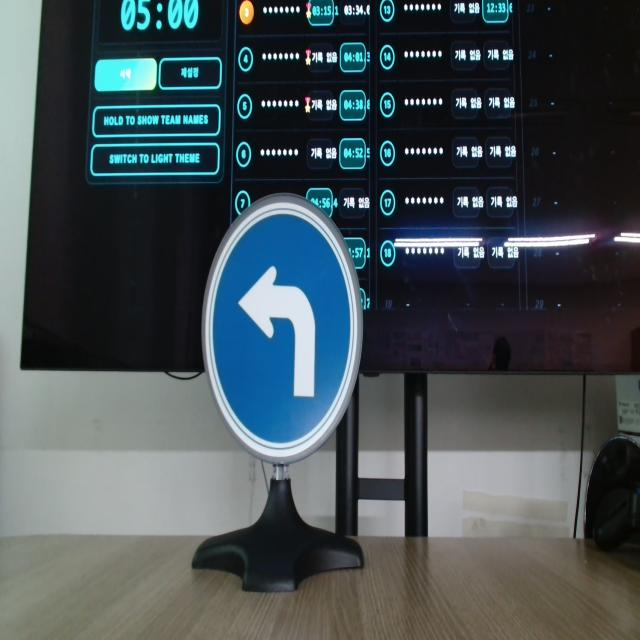left_direction: (199, 193, 367, 459)
